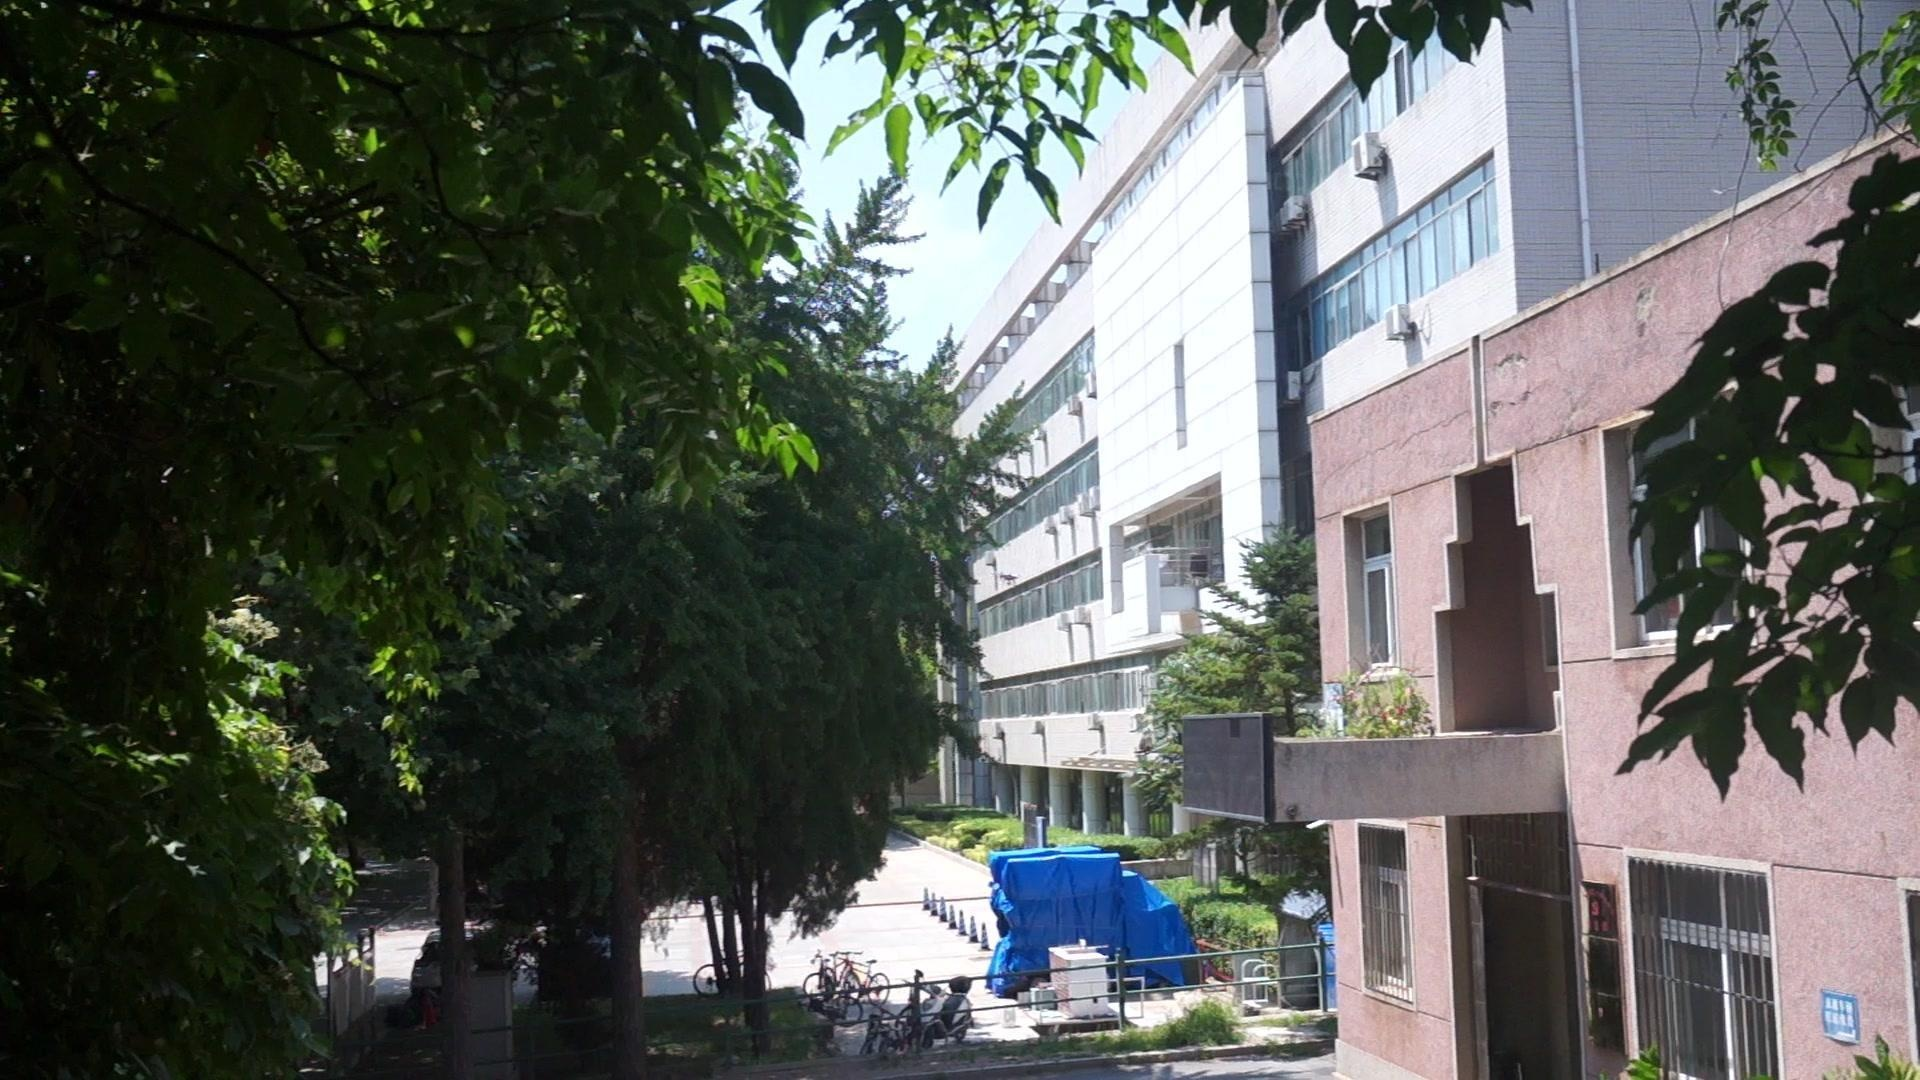UAV: (993, 574, 1021, 587)
